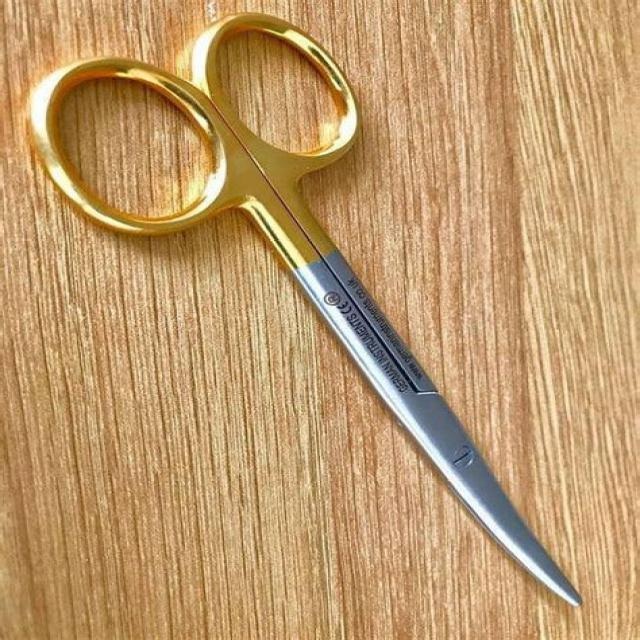Iris: (21, 7, 588, 615)
